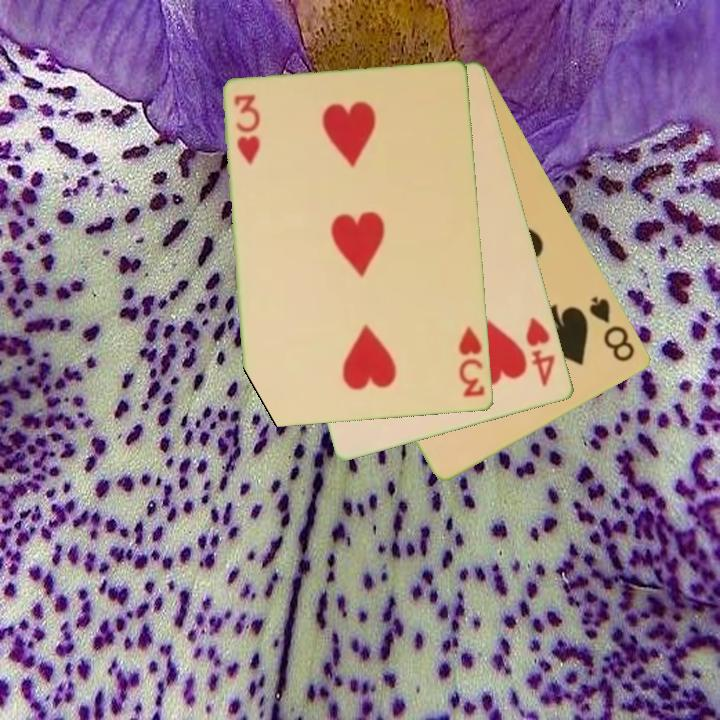3h: (455, 323, 488, 401), (231, 91, 264, 168)
4h: (522, 314, 559, 390)
8s: (586, 292, 639, 365)
